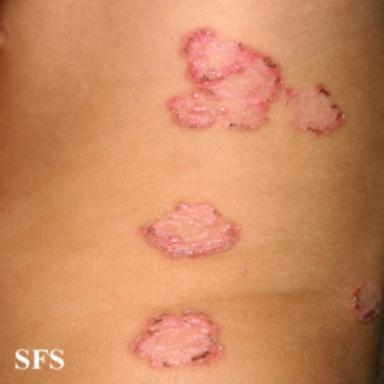Impetigo: (168, 28, 283, 129), (138, 203, 240, 258), (130, 311, 223, 367), (284, 83, 346, 136), (348, 281, 382, 323)
